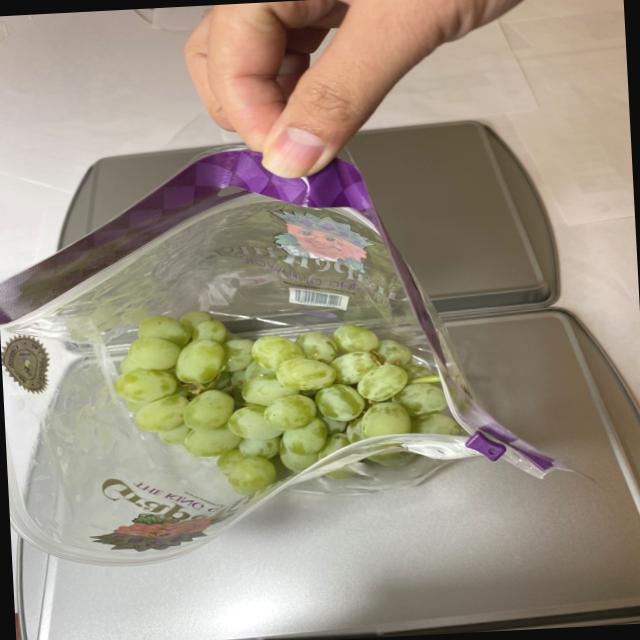grapes: (109, 300, 479, 500)
